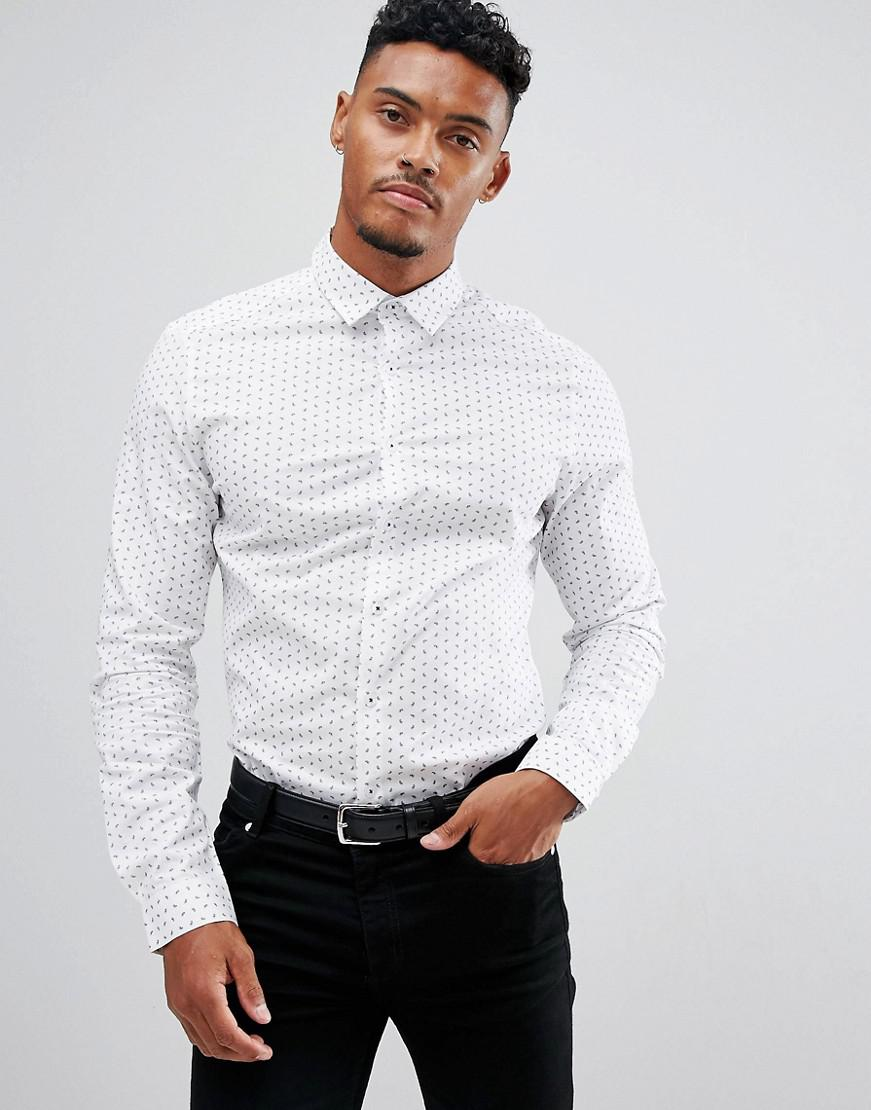teeshirt: (95, 234, 681, 935)
